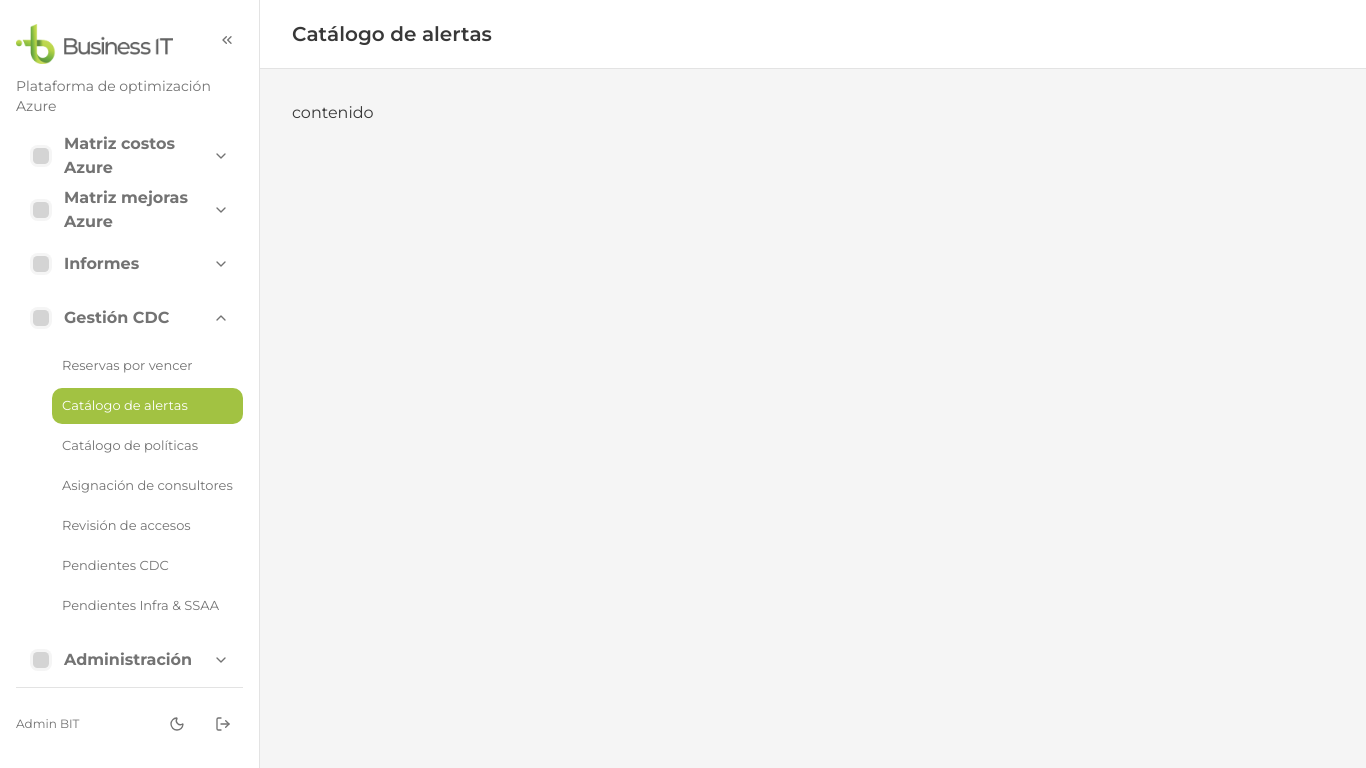
it: contraer el menú deja solo los iconos: sin etiquetas de grupo ni submenú
Expected: the text "Gestión CDC" is shown, 64,308 -> 170,327
What coordinates should you click on to do the following:
click the button named "Contraer menú"
I would click on:
 (227, 40)
Its box is 211,24 -> 243,56.
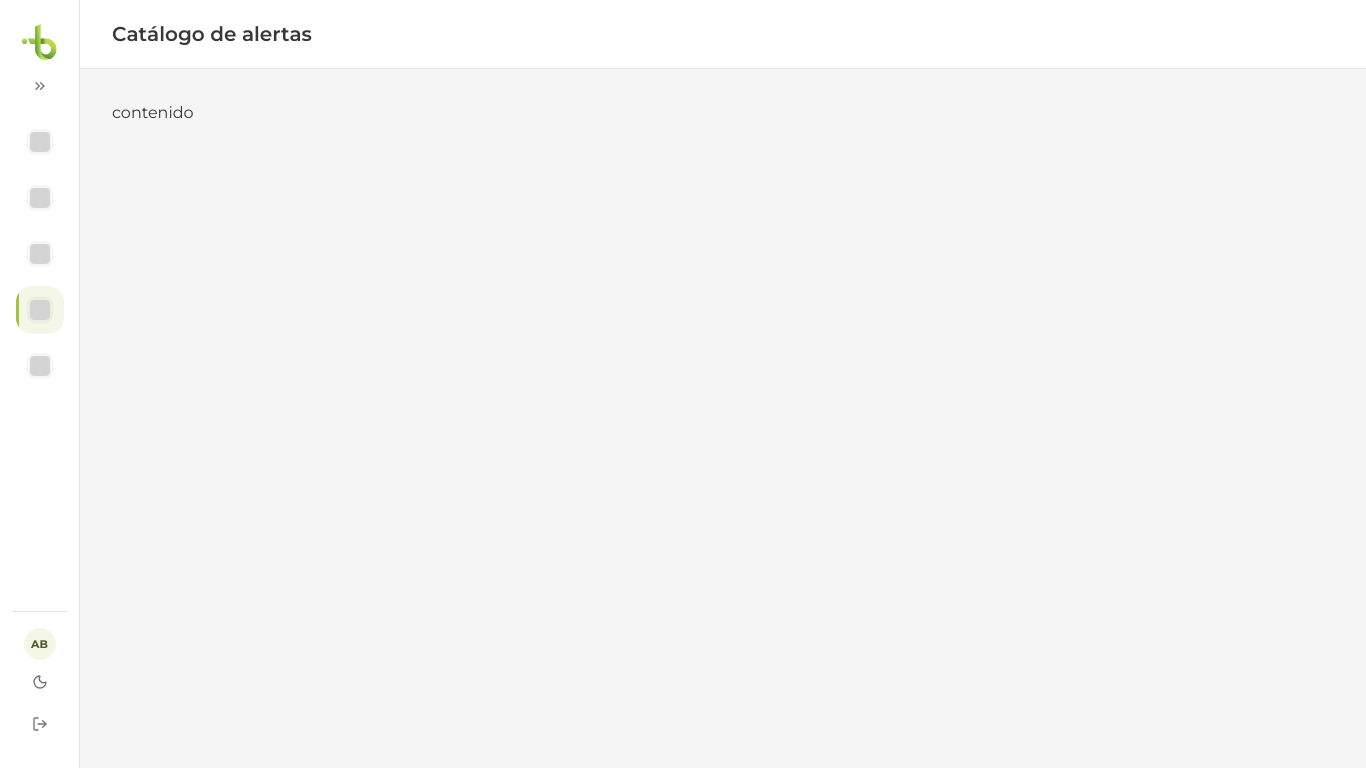
Expected: the button "Gestión CDC" is gone
Expected: the text "Plataforma de optimización Azure" is gone
Expected: the button named "Expandir menú" is shown, 12,70 -> 67,102
